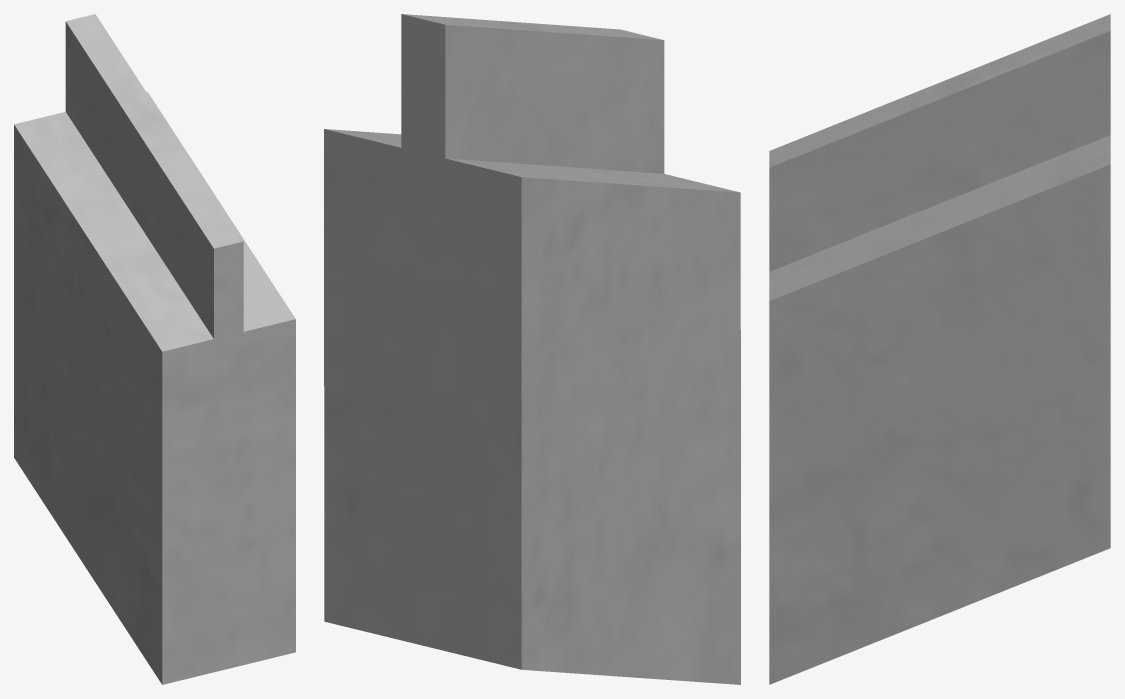
The model's file is DownOrUp.fbx.
3 views of the same model, side by side, from view 1: azimuth 30°, elevation 25°; view 2: azimuth 150°, elevation 25°; view 3: azimuth 270°, elevation 25° (orthographic). The views are drawn at different scales.
Visible parts, largest first — view 1: StairConcreteDownOrUp; view 2: StairConcreteDownOrUp; view 3: StairConcreteDownOrUp.
Part boxes in pixels (<box>): StairConcreteDownOrUp: <box>14,14,295,684</box>; StairConcreteDownOrUp: <box>324,14,740,684</box>; StairConcreteDownOrUp: <box>769,14,1110,684</box>.
Size of what is drawn, in the model's own units: 37.43 by 145 by 71.91.
